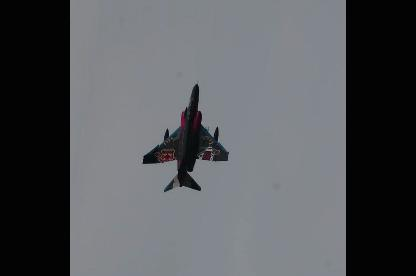F35: (141, 79, 228, 191)
